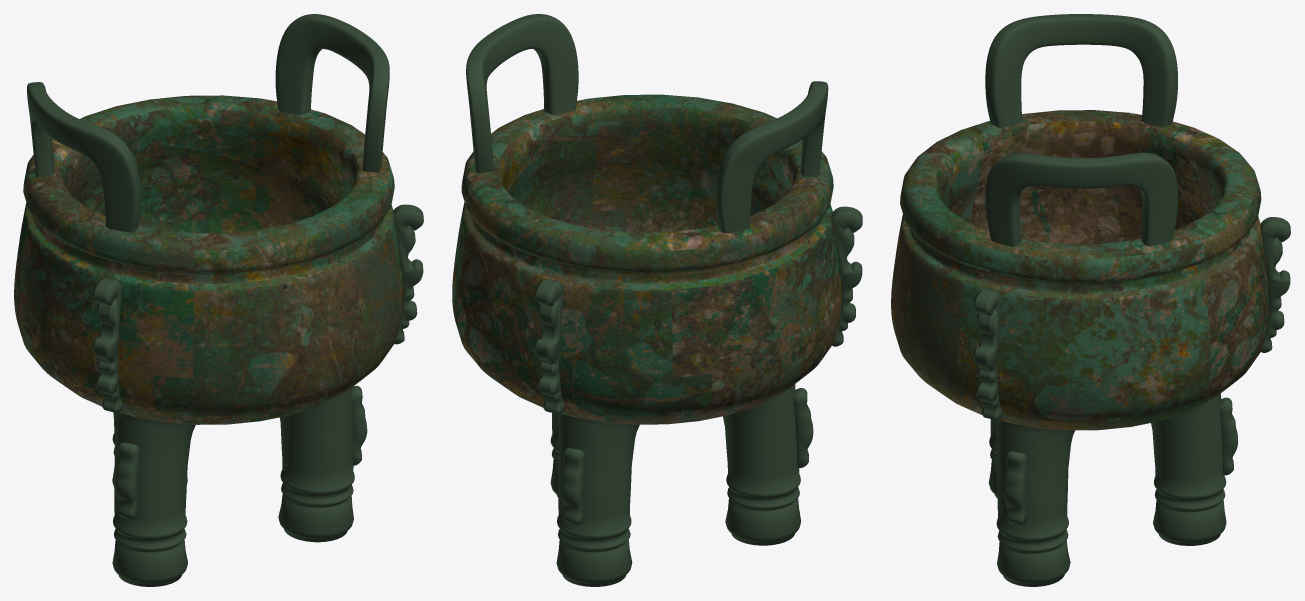
3 renders of one model, left to right at view 1: azimuth 30°, elevation 25°; view 2: azimuth 150°, elevation 25°; view 3: azimuth 270°, elevation 25°, orthographic. The views are drawn at different scales.
Parts seen in each view (by area): view 1: YD; view 2: YD; view 3: YD.
Part boxes in pixels (box(x1,y1,x2,y2)): YD: box(14, 14, 423, 586); YD: box(452, 14, 862, 586); YD: box(891, 14, 1290, 586).
Size of the model in its own units: 1.6 by 2.09 by 1.7.
Materials: 1 (1 with a texture image).
